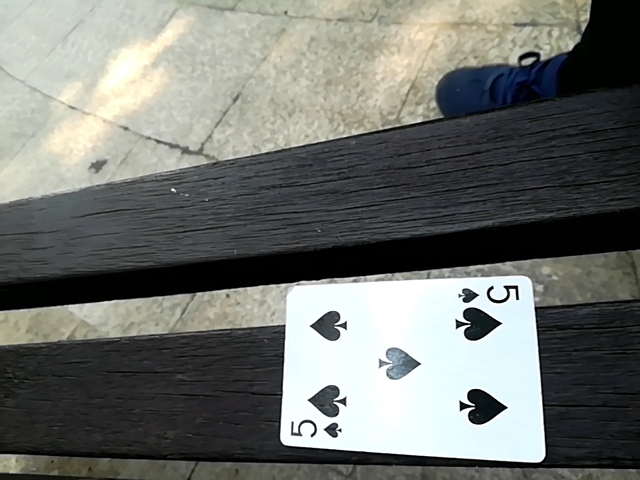ht 5: (277, 272, 548, 462)
